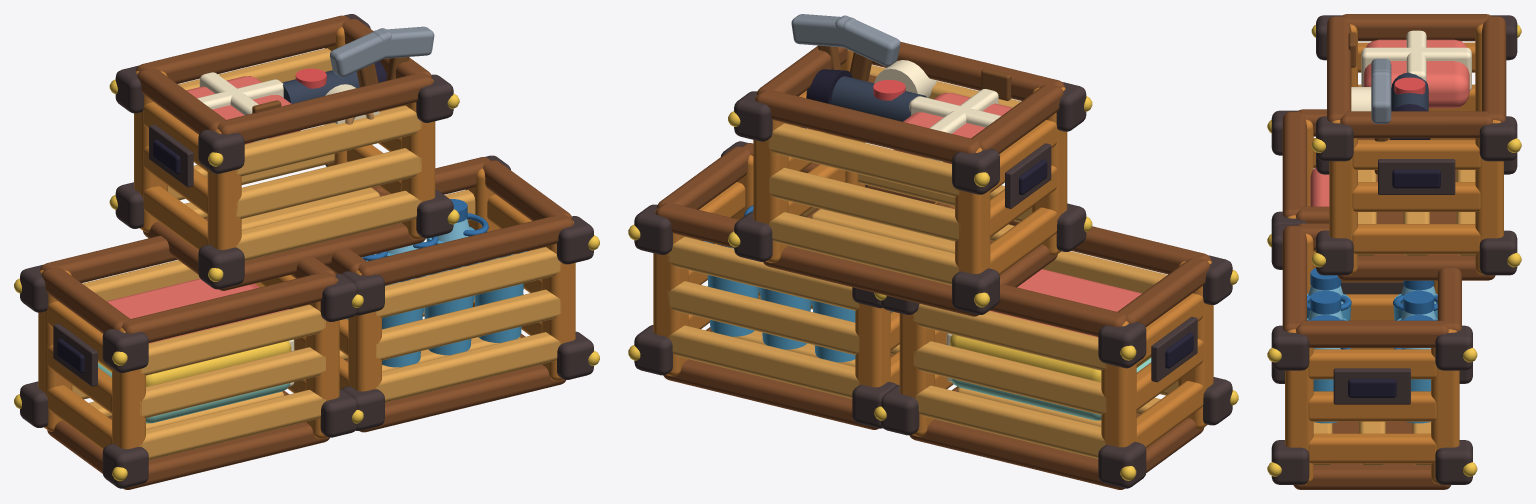
The model's file is supply-crate.glb.
The picture shows the model from 3 angles, left to right: view 1: azimuth 30°, elevation 25°; view 2: azimuth 150°, elevation 25°; view 3: azimuth 270°, elevation 25°; orthographic projection. The views are drawn at different scales.
Visible parts, largest first — view 1: complete-slatted-sides-surface-10 (×3), complete-slatted-sides-surface-26 (×3), complete-slatted-sides-surface-2 (×3), complete-slatted-sides-surface-18 (×3), closed-bottom-rails-surface-0 (×3), complete-slatted-sides-surface-24 (×3), corner-posts-surface-2 (×3), corner-posts-surface-6 (×3), complete-slatted-sides-surface-28 (×3), complete-slatted-sides-surface-4 (×2), complete-slatted-sides-surface-16 (×2), reinforced-corner-brackets-surface-8 (×3) (+24 smaller); view 2: complete-slatted-sides-surface-8 (×3), complete-slatted-sides-surface-0 (×3), closed-bottom-rails-surface-0 (×3), complete-slatted-sides-surface-16 (×3), complete-slatted-sides-surface-24 (×3), corner-posts-surface-0 (×3), corner-posts-surface-4 (×3), complete-slatted-sides-surface-26 (×2), complete-slatted-sides-surface-28 (×2), complete-slatted-sides-surface-4 (×2), reinforced-corner-brackets-surface-0 (×3), reinforced-corner-brackets-surface-16 (×3) (+27 smaller); view 3: complete-slatted-sides-surface-30 (×3), closed-bottom-rails-surface-0 (×2), complete-slatted-sides-surface-6 (×2), complete-slatted-sides-surface-26 (×3), complete-slatted-sides-surface-22 (×2), complete-slatted-sides-surface-14 (×2), corner-posts-surface-6 (×2), corner-posts-surface-4 (×2), complete-slatted-sides-surface-24 (×2), side-handles-surface-4 (×2), complete-slatted-sides-surface-28 (×3), reinforced-corner-brackets-surface-28 (×3) (+26 smaller).
Boxes of the visible parts, x1,y1,x2,y2 form: complete-slatted-sides-surface-10 (×3): [140, 148, 561, 417]; complete-slatted-sides-surface-26 (×3): [122, 73, 573, 342]; complete-slatted-sides-surface-2 (×3): [140, 190, 560, 459]; complete-slatted-sides-surface-18 (×3): [140, 105, 560, 375]; closed-bottom-rails-surface-0 (×3): [47, 187, 565, 489]; complete-slatted-sides-surface-24 (×3): [40, 15, 490, 282]; corner-posts-surface-2 (×3): [112, 128, 381, 449]; corner-posts-surface-6 (×3): [305, 78, 575, 438]; complete-slatted-sides-surface-28 (×3): [41, 68, 366, 333]; complete-slatted-sides-surface-4 (×2): [47, 186, 207, 449]; complete-slatted-sides-surface-16 (×2): [82, 48, 332, 301]; reinforced-corner-brackets-surface-8 (×3): [102, 244, 384, 488]; complete-slatted-sides-surface-8 (×3): [667, 168, 1107, 414]; complete-slatted-sides-surface-0 (×3): [667, 212, 1105, 458]; closed-bottom-rails-surface-0 (×3): [663, 208, 1204, 489]; complete-slatted-sides-surface-16 (×3): [667, 123, 1107, 370]; complete-slatted-sides-surface-24 (×3): [655, 89, 1126, 336]; corner-posts-surface-0 (×3): [855, 147, 1136, 447]; corner-posts-surface-4 (×3): [653, 95, 934, 436]; complete-slatted-sides-surface-26 (×2): [871, 41, 1211, 274]; complete-slatted-sides-surface-28 (×2): [971, 84, 1209, 326]; complete-slatted-sides-surface-4 (×2): [990, 207, 1203, 447]; reinforced-corner-brackets-surface-0 (×3): [852, 268, 1146, 488]; reinforced-corner-brackets-surface-16 (×3): [634, 211, 919, 435]; complete-slatted-sides-surface-30 (×3): [1296, 111, 1492, 347]; closed-bottom-rails-surface-0 (×2): [1293, 170, 1495, 489]; complete-slatted-sides-surface-6 (×2): [1308, 224, 1480, 463]; complete-slatted-sides-surface-26 (×3): [1282, 16, 1351, 331]; complete-slatted-sides-surface-22 (×2): [1308, 140, 1480, 379]; complete-slatted-sides-surface-14 (×2): [1308, 182, 1480, 421]; corner-posts-surface-6 (×2): [1285, 120, 1357, 484]; corner-posts-surface-4 (×2): [1431, 120, 1503, 484]; complete-slatted-sides-surface-24 (×2): [1437, 16, 1506, 331]; side-handles-surface-4 (×2): [1333, 159, 1455, 404]; complete-slatted-sides-surface-28 (×3): [1297, 14, 1491, 250]; reinforced-corner-brackets-surface-28 (×3): [1271, 116, 1353, 370].
Bounding box in the file's own units: 1.75 × 1.23 × 0.8011.
